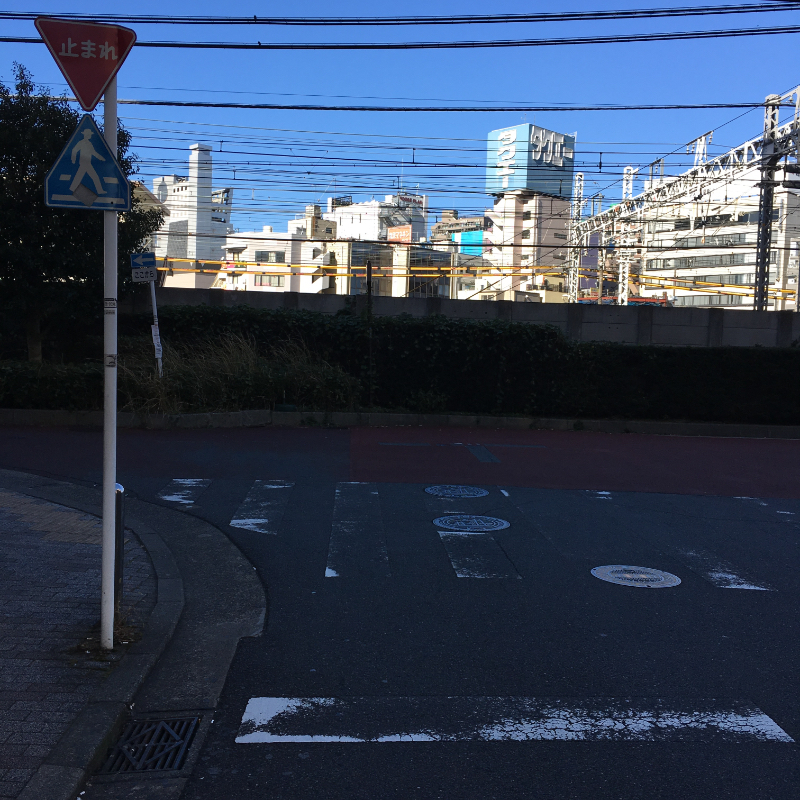STOP: (33, 13, 139, 113)
